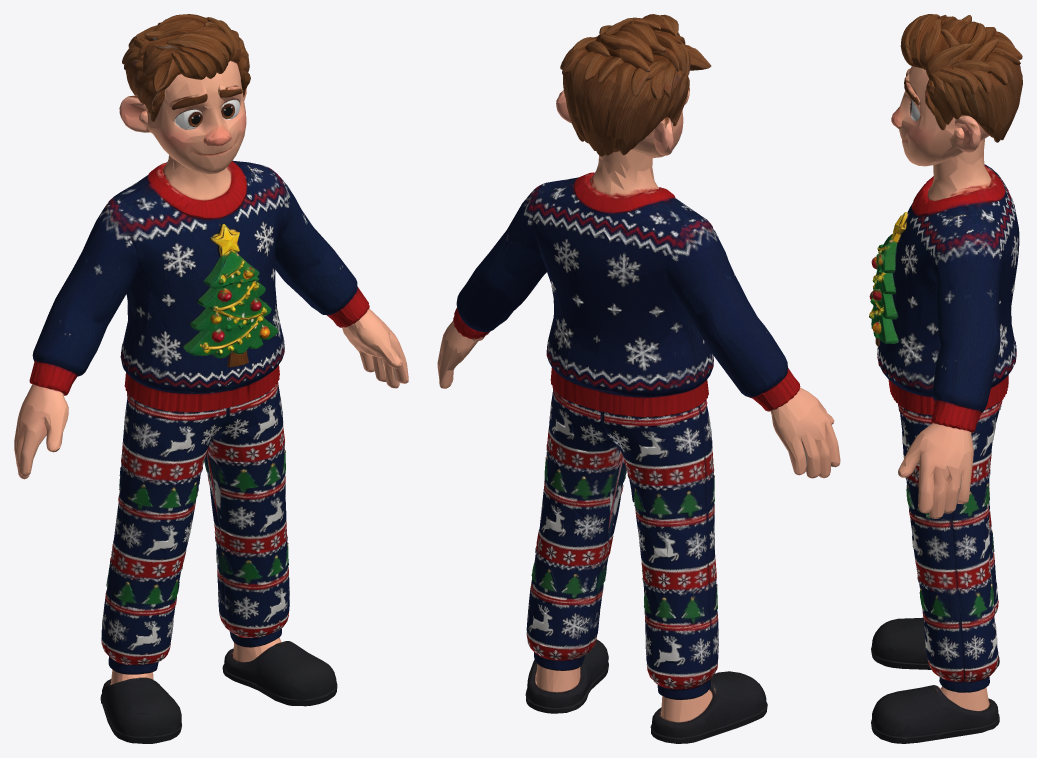
The model's file is dan_home.fbx.
3 views of the same model, side by side, from view 1: azimuth 30°, elevation 25°; view 2: azimuth 150°, elevation 25°; view 3: azimuth 270°, elevation 25° (orthographic). The views are drawn at different scales.
Visible parts, largest first — view 1: dan_home; view 2: dan_home; view 3: dan_home.
Boxes of the visible parts, x1,y1,x2,y2 form: dan_home: (14,14,408,743); dan_home: (437,14,840,743); dan_home: (869,14,1022,743).
Size of the model in its own units: 1.08 by 1.8 by 0.3773.
Materials: 1 (1 with a texture image).
